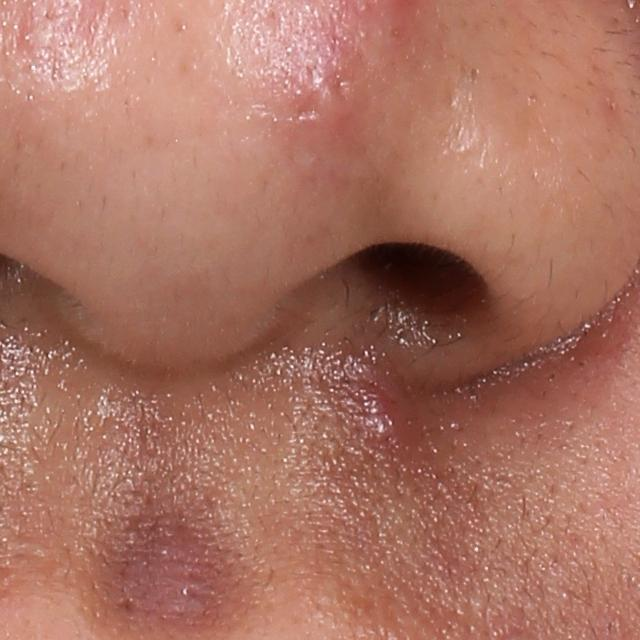papule: (357, 392, 414, 450)
